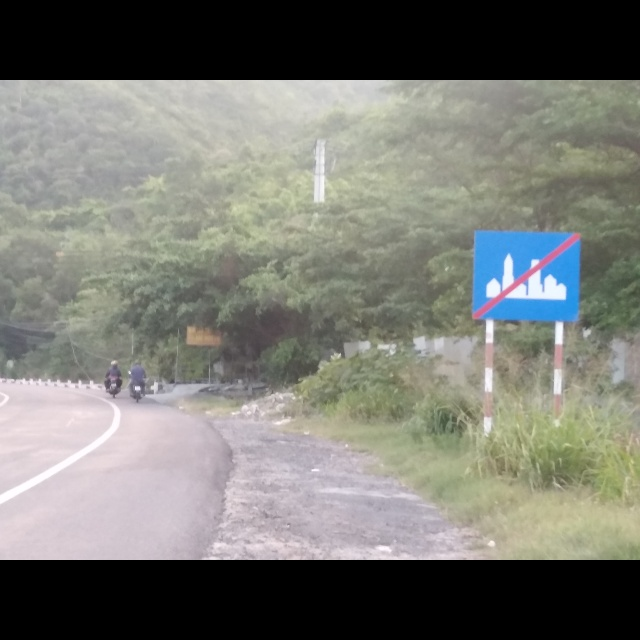Hết khu đông dân cư: (472, 229, 581, 324)
